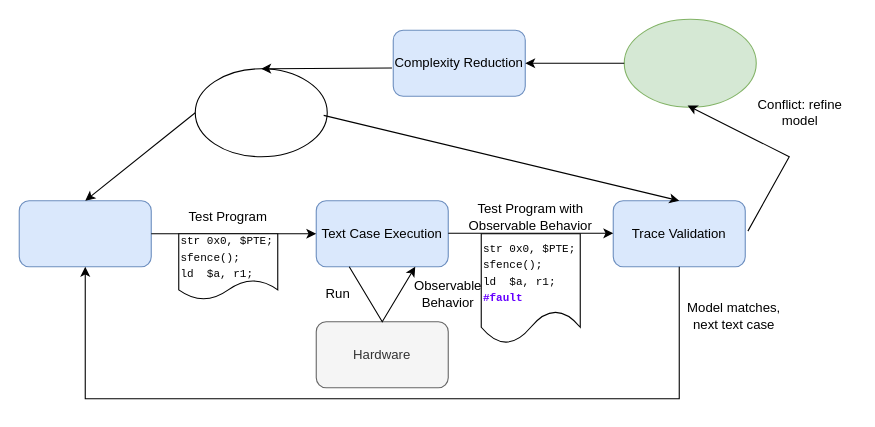
This 875x427 diagram has some shape labels left out. The shapes that lost their labels are listed below. From the top down, each one's centre as x and y in pixels, then its label:
[689,62]: Hardware Model
[260,112]: Reduced Model
[84,233]: Test Case Generation
